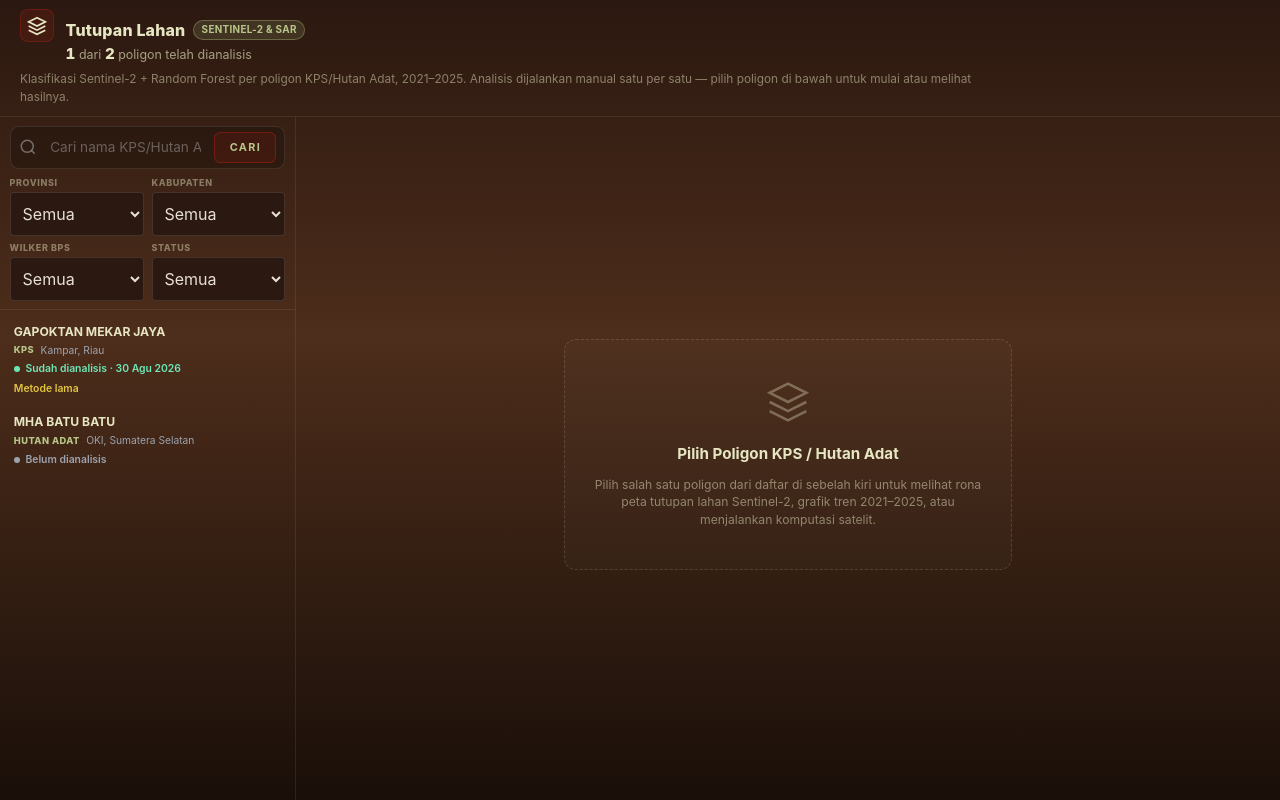
Test: TutupanLahanView › filters the list by search text
Check: the text "GAPOKTAN MEKAR JAYA" is shown, box [14, 324, 165, 338]
Type "batu batu" into the field with placeholder "Cari nama KPS/Hutan Adat…" at (125, 148), box [46, 134, 205, 161]
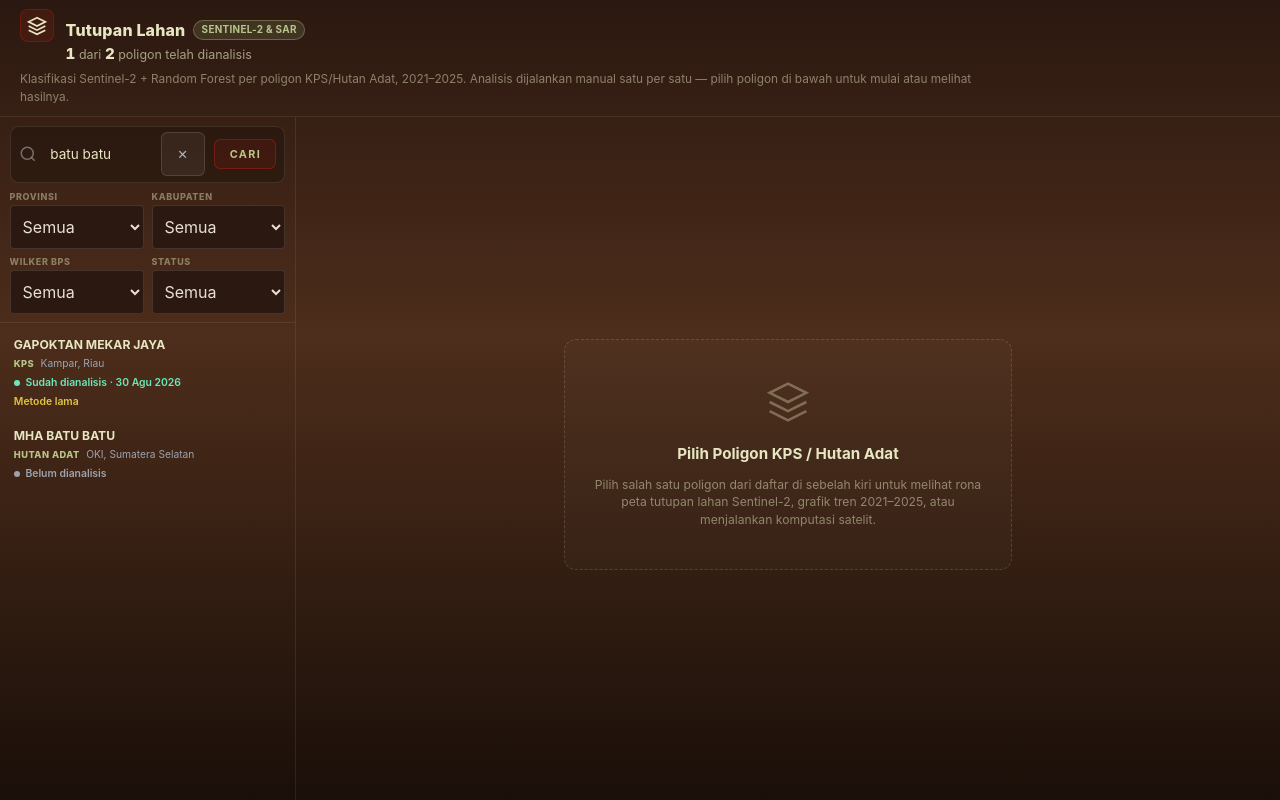
Click the button "Cari" at (245, 154), box [214, 139, 276, 170]
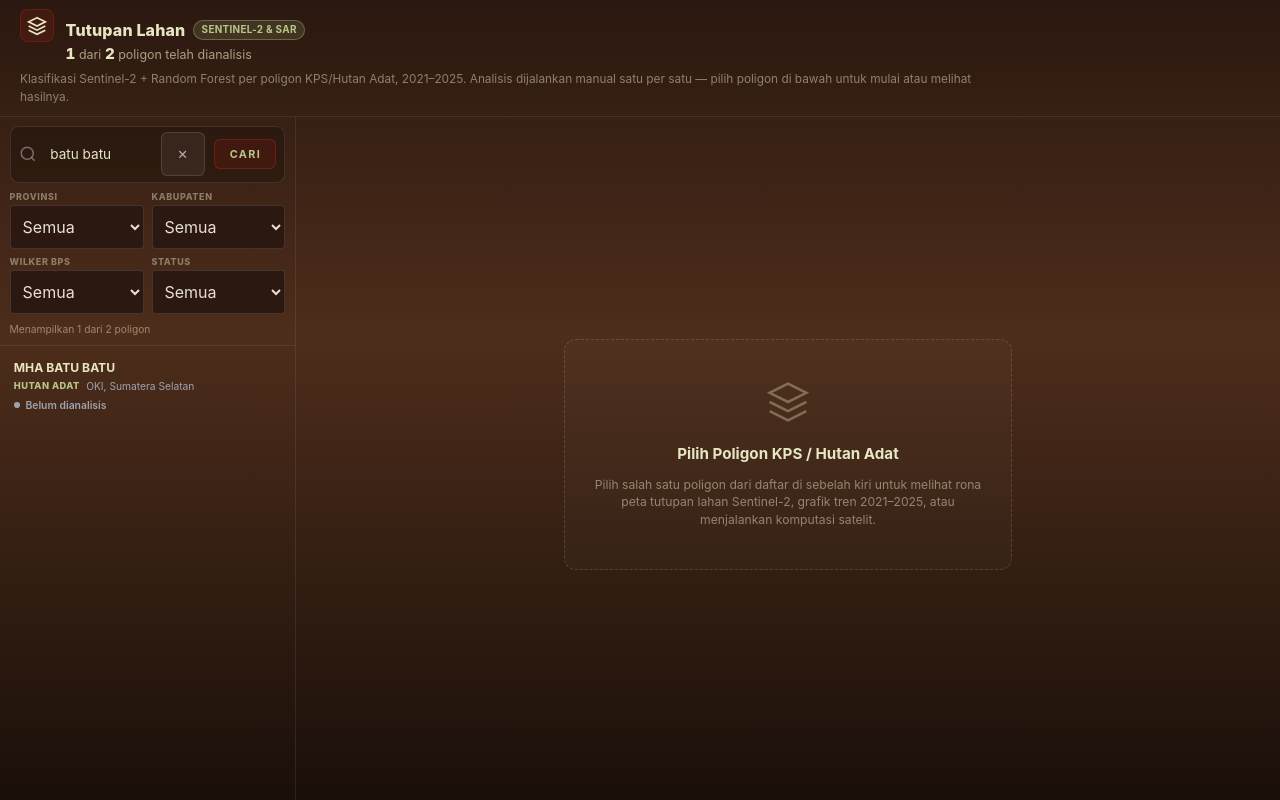
Check: the text "MHA BATU BATU" is shown, box [14, 360, 115, 375]
Check: the button "GAPOKTAN MEKAR JAYA" is gone
